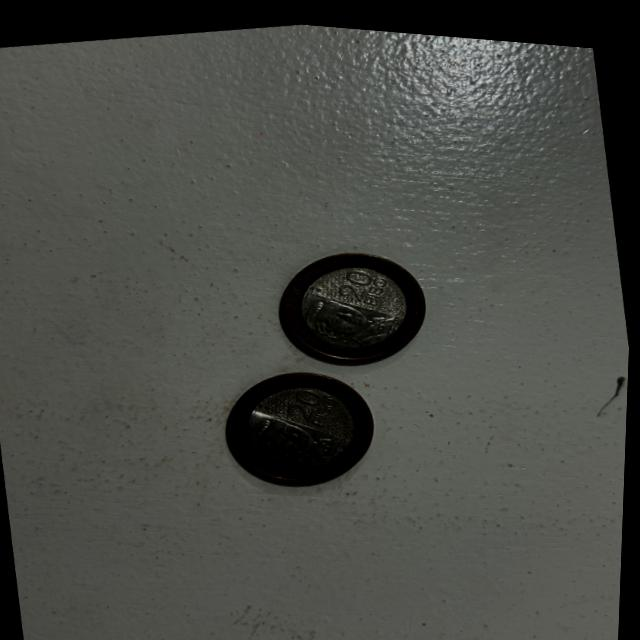20_New_Front: (330, 253, 401, 308), (280, 373, 344, 429)
